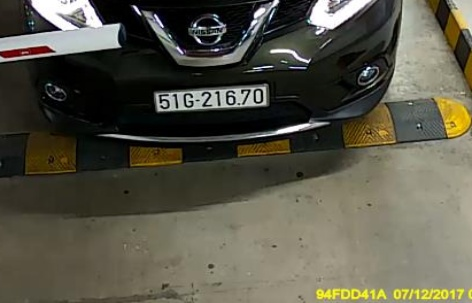plate: (150, 83, 274, 114)
